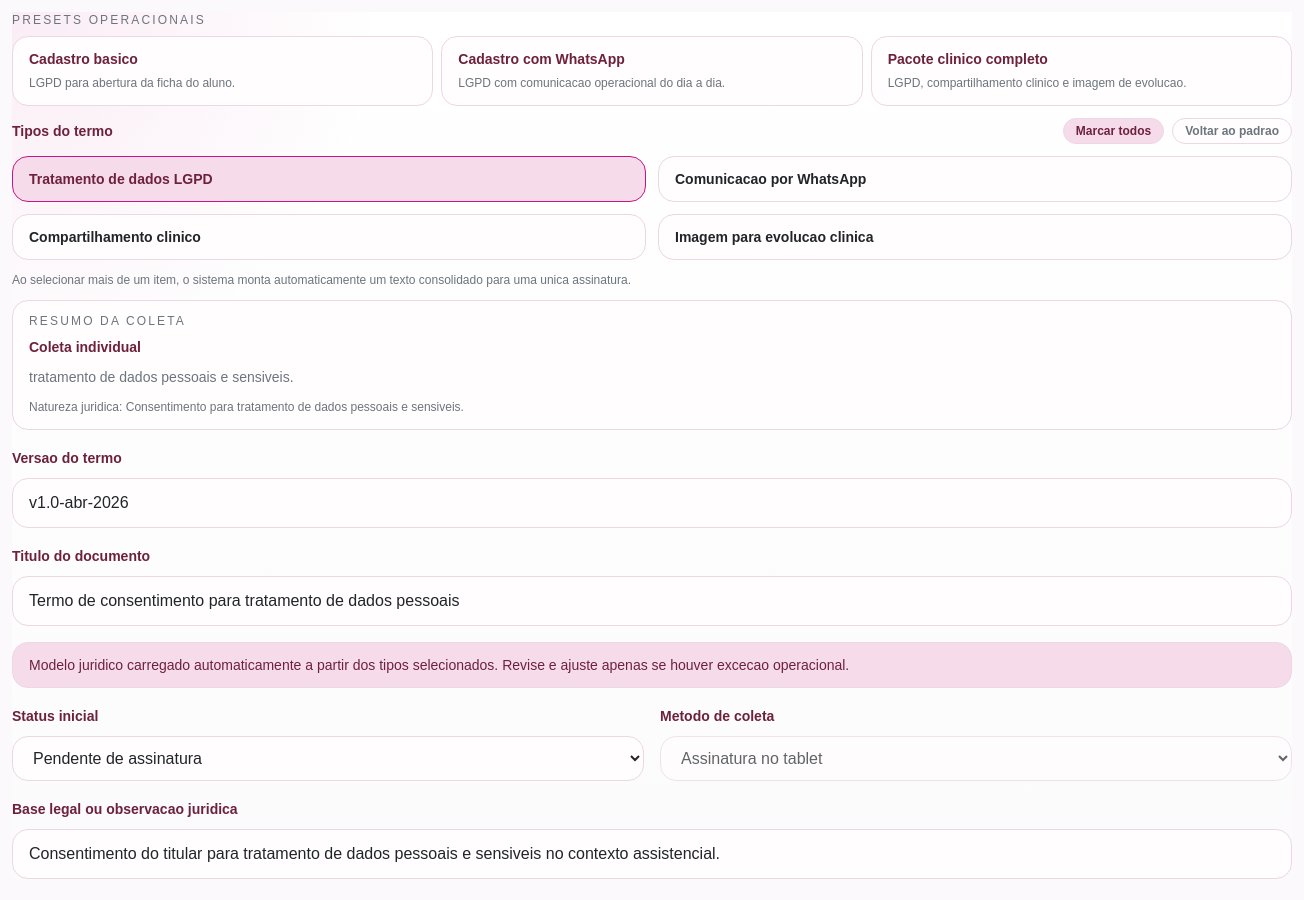
Scenario: LegalAcceptanceForm › consolida o texto exibido ao aluno ao marcar mais de um termo
The width and height of the screenshot is (1304, 900).
Click the text "Comunicacao por WhatsApp" at (771, 179), box [675,171,866,187]
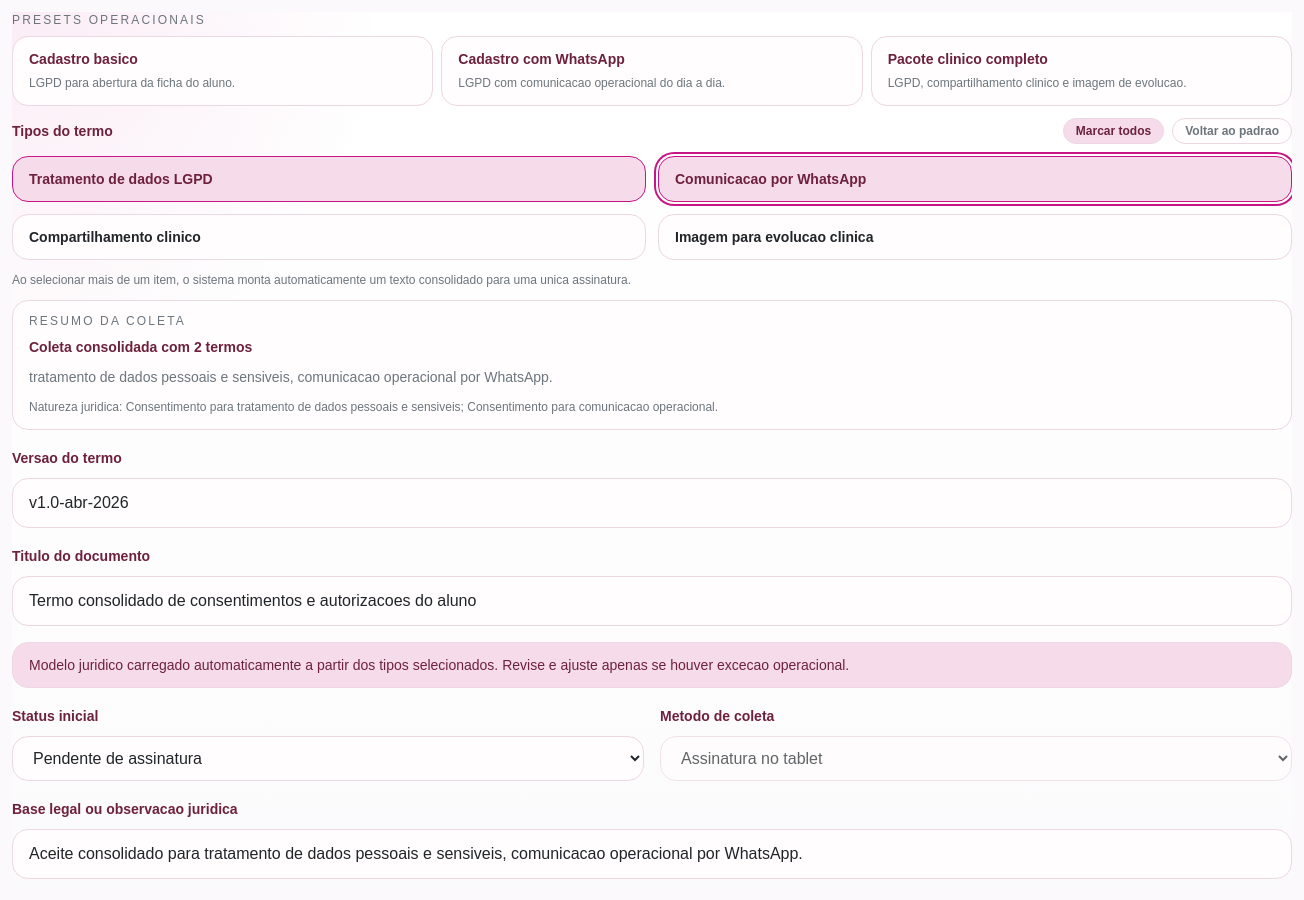
Now the field labelled "Titulo do documento" holds "Termo consolidado de consentimentos e autorizacoes do aluno", box [12,576,1292,626]
Now the text "Coleta consolidada com 2 termos" is shown, box [29,339,252,355]
